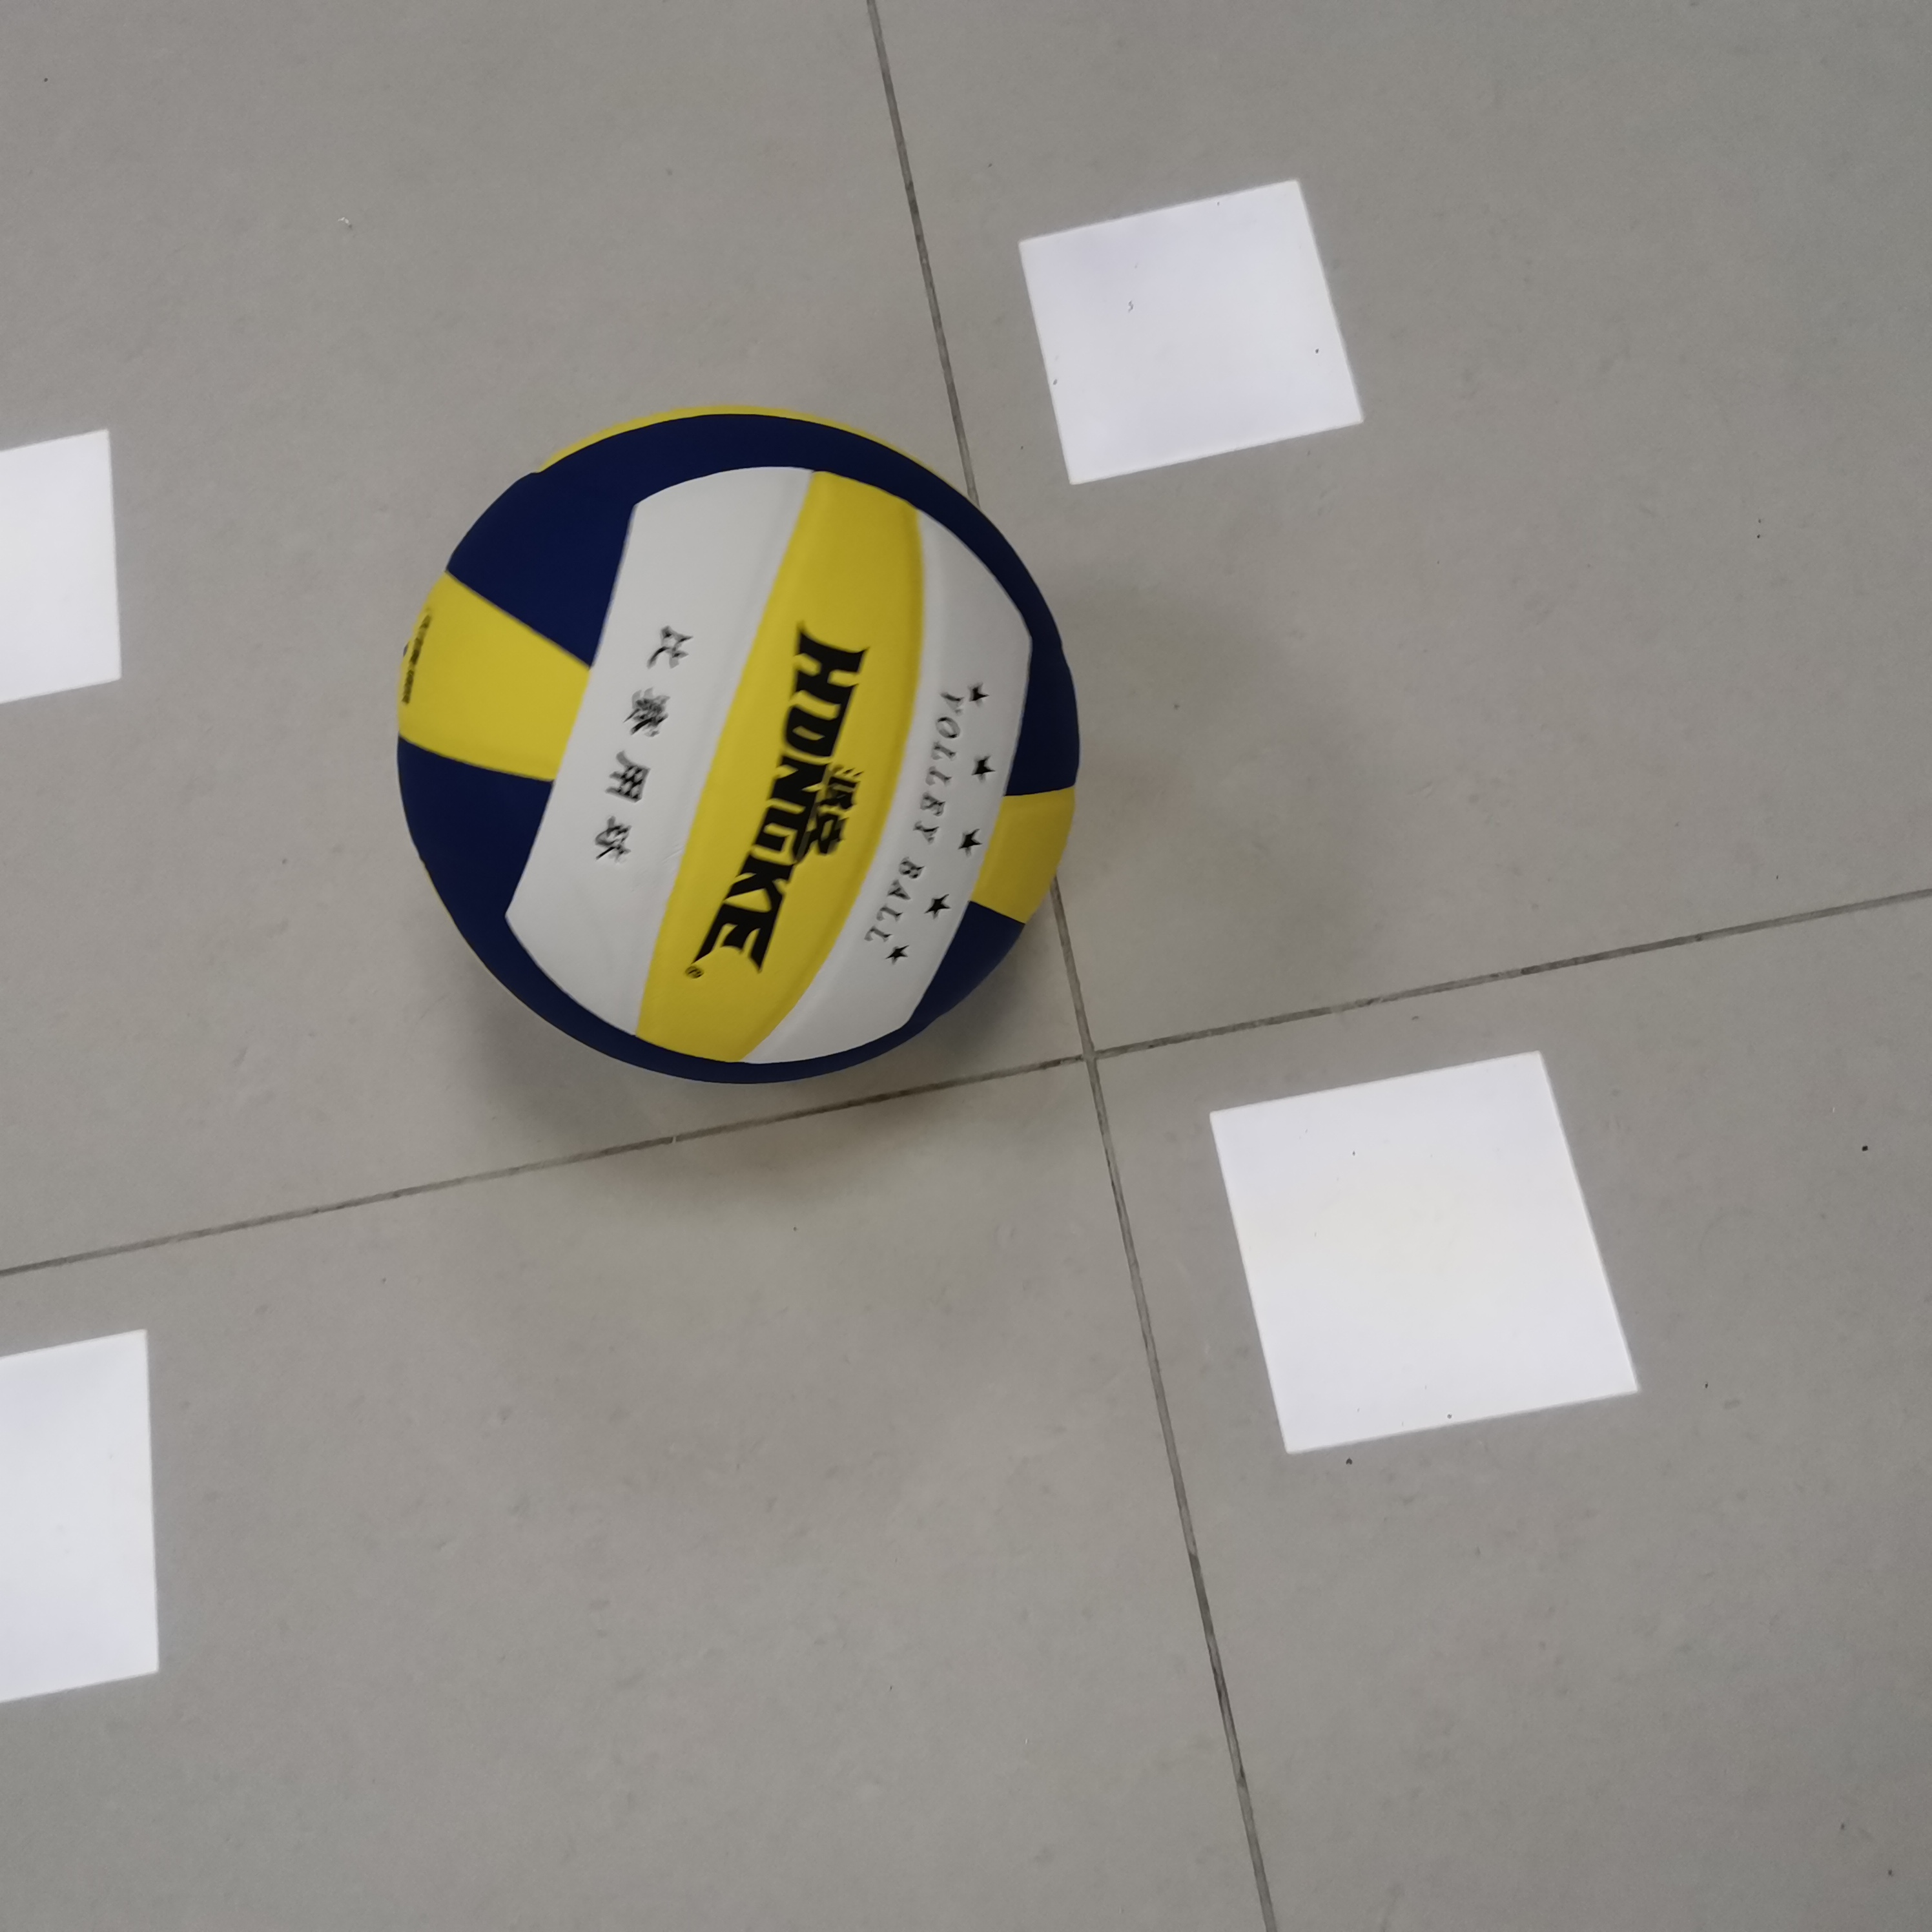volleyball: (395, 421, 1086, 1088)
